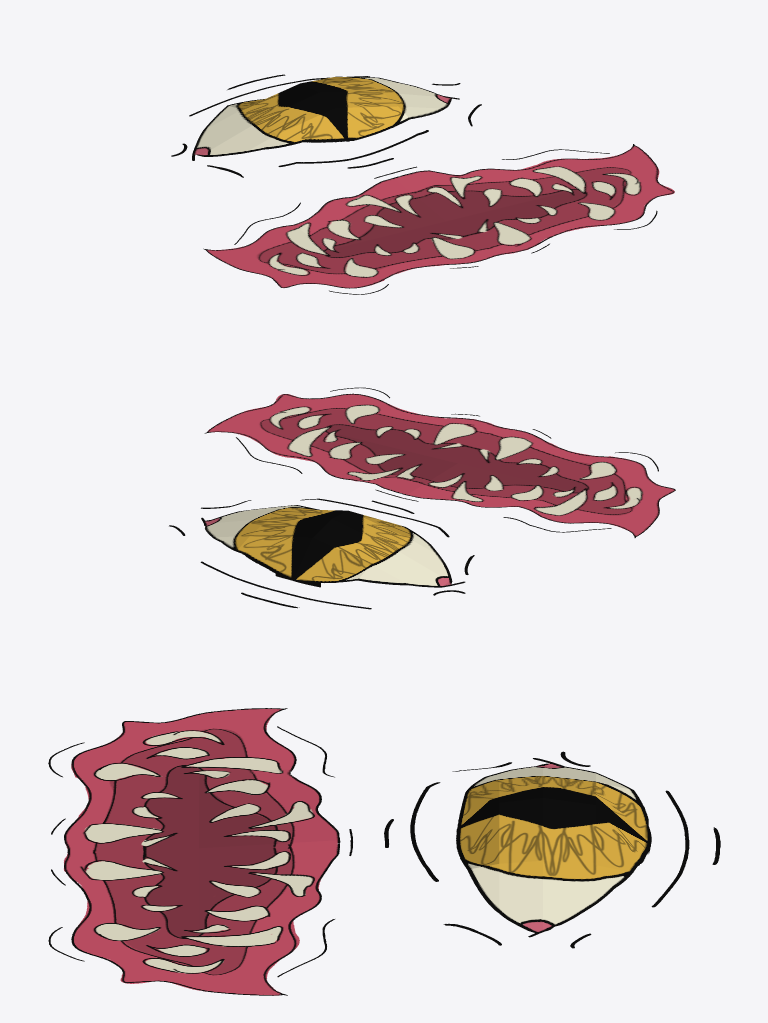
File: 3d_Mouth.fbx
The picture shows the model from 3 angles, top to bottom: view 1: azimuth 30°, elevation 25°; view 2: azimuth 150°, elevation 25°; view 3: azimuth 270°, elevation 25°; orthographic projection. The views are drawn at different scales.
Visible parts, largest first — view 1: 3d_Mouth; view 2: 3d_Mouth; view 3: 3d_Mouth.
Part boxes in pixels (x1,y1,x2,y2): 3d_Mouth: [171, 74, 674, 294]; 3d_Mouth: [169, 387, 675, 609]; 3d_Mouth: [48, 708, 720, 995].
Bounding box in the file's own units: 4 × 0.3014 × 4.
1 material, 1 textured.
